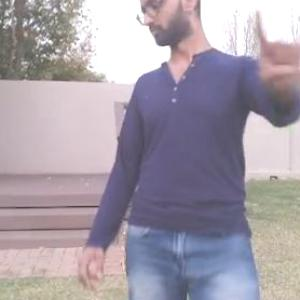takeoff-hand: (244, 6, 299, 99)
